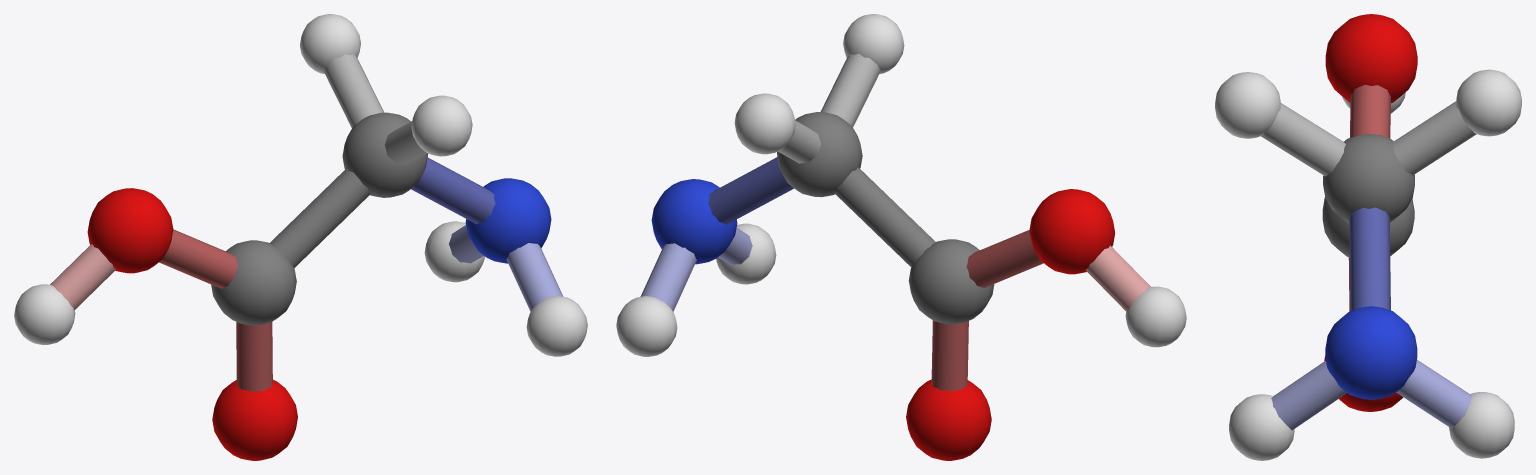
Rendered from glycine.glb.
3 views of the same model, side by side, from view 1: azimuth 30°, elevation 25°; view 2: azimuth 150°, elevation 25°; view 3: azimuth 270°, elevation 25° (orthographic). The views are drawn at different scales.
Bounding box in the file's own units: 0.18 × 0.1207 × 0.0829.
